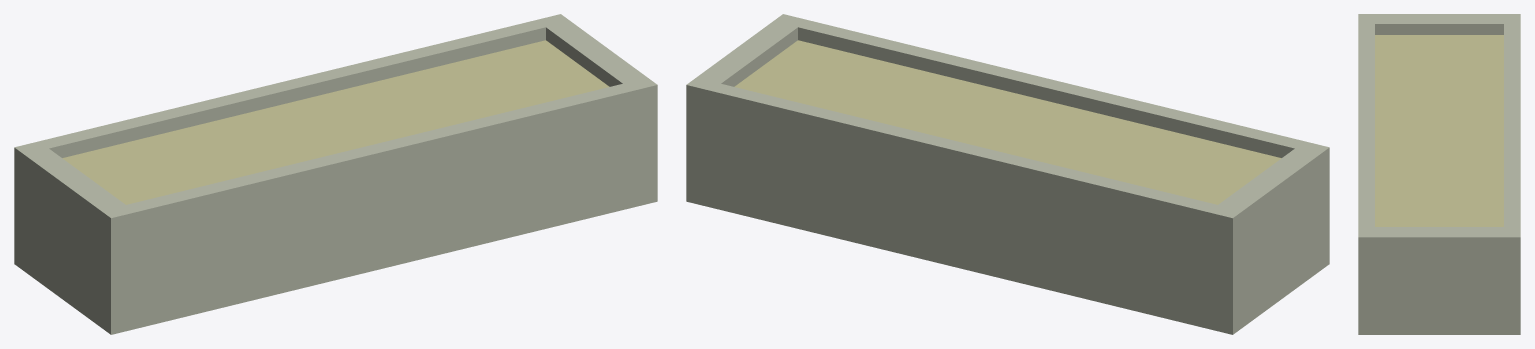
The model's file is Grass_Tub_Yellow_vc.fbx.
The picture shows the model from 3 angles, left to right: view 1: azimuth 30°, elevation 25°; view 2: azimuth 150°, elevation 25°; view 3: azimuth 270°, elevation 25°; orthographic projection. The views are drawn at different scales.
Parts seen in each view (by area): view 1: Grass_Tub_Yellow_vc; view 2: Grass_Tub_Yellow_vc; view 3: Grass_Tub_Yellow_vc.
Boxes of the visible parts, x1,y1,x2,y2 form: Grass_Tub_Yellow_vc: [14, 14, 657, 334]; Grass_Tub_Yellow_vc: [686, 14, 1329, 334]; Grass_Tub_Yellow_vc: [1358, 14, 1520, 334].
Size of the model in its own units: 601 by 123 by 184.
